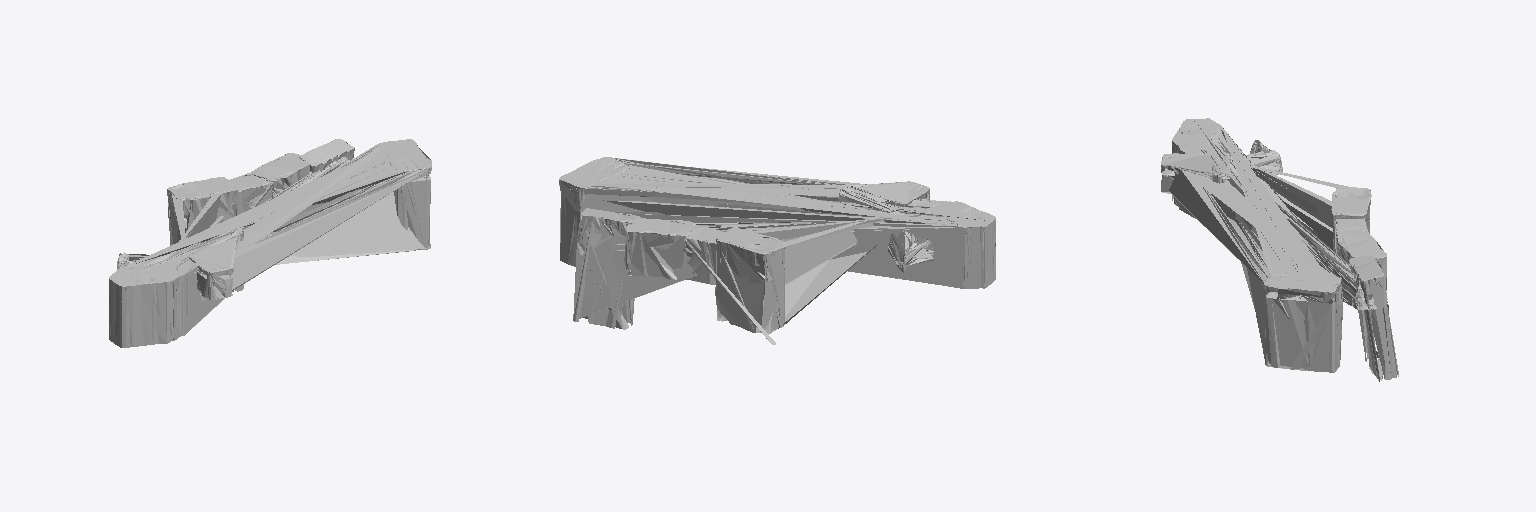
The model's file is cellSlimulationMoss_NorthPass_Proxy-sharedassets3.assets-667.obj.
3 renders of one model, left to right at view 1: azimuth 30°, elevation 25°; view 2: azimuth 150°, elevation 25°; view 3: azimuth 270°, elevation 25°, orthographic.
Visible parts, largest first — view 1: cellSlimulationMoss_NorthPass_Proxy_9, cellSlimulationMoss_NorthPass_Proxy_6, cellSlimulationMoss_NorthPass_Proxy_8, cellSlimulationMoss_NorthPass_Proxy_5, cellSlimulationMoss_NorthPass_Proxy_7; view 2: cellSlimulationMoss_NorthPass_Proxy_9, cellSlimulationMoss_NorthPass_Proxy_8, cellSlimulationMoss_NorthPass_Proxy_6, cellSlimulationMoss_NorthPass_Proxy_5, cellSlimulationMoss_NorthPass_Proxy_10, cellSlimulationMoss_NorthPass_Proxy_7; view 3: cellSlimulationMoss_NorthPass_Proxy_9, cellSlimulationMoss_NorthPass_Proxy_6, cellSlimulationMoss_NorthPass_Proxy_8, cellSlimulationMoss_NorthPass_Proxy_7, cellSlimulationMoss_NorthPass_Proxy_10.
Boxes of the visible parts, x1,y1,x2,y2 form: cellSlimulationMoss_NorthPass_Proxy_9: [109, 139, 431, 346]; cellSlimulationMoss_NorthPass_Proxy_6: [109, 139, 431, 347]; cellSlimulationMoss_NorthPass_Proxy_8: [110, 139, 431, 346]; cellSlimulationMoss_NorthPass_Proxy_5: [110, 160, 349, 347]; cellSlimulationMoss_NorthPass_Proxy_7: [109, 157, 424, 343]; cellSlimulationMoss_NorthPass_Proxy_9: [559, 157, 994, 344]; cellSlimulationMoss_NorthPass_Proxy_8: [559, 157, 995, 333]; cellSlimulationMoss_NorthPass_Proxy_6: [560, 157, 995, 287]; cellSlimulationMoss_NorthPass_Proxy_5: [902, 218, 995, 288]; cellSlimulationMoss_NorthPass_Proxy_10: [694, 222, 930, 269]; cellSlimulationMoss_NorthPass_Proxy_7: [559, 168, 995, 286]; cellSlimulationMoss_NorthPass_Proxy_9: [1161, 118, 1398, 381]; cellSlimulationMoss_NorthPass_Proxy_6: [1162, 119, 1376, 372]; cellSlimulationMoss_NorthPass_Proxy_8: [1161, 118, 1377, 370]; cellSlimulationMoss_NorthPass_Proxy_7: [1173, 118, 1370, 372]; cellSlimulationMoss_NorthPass_Proxy_10: [1252, 147, 1375, 309].
Size of the model in its own units: 196 by 60.82 by 111.